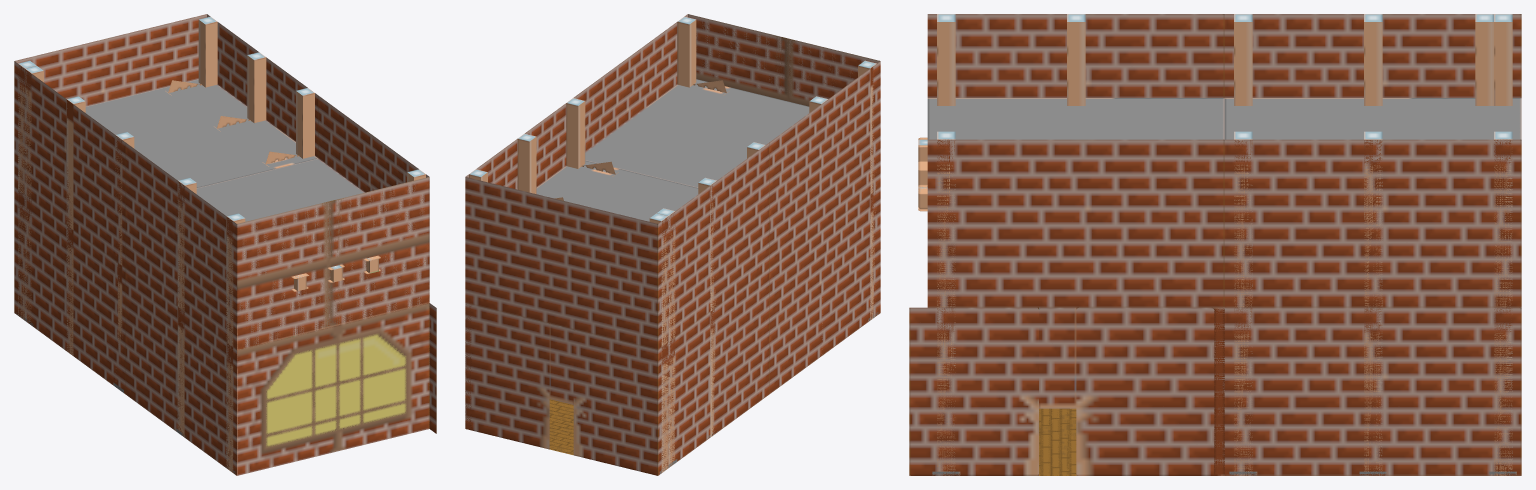
The model's file is Room2.fbx.
3 views of the same model, side by side, from view 1: azimuth 30°, elevation 25°; view 2: azimuth 150°, elevation 25°; view 3: azimuth 270°, elevation 25° (orthographic). The views are drawn at different scales.
Visible parts, largest first — view 1: cube_15, cube_35, cube_34, cube_49, cube_33, cube_32, cube_2, cube_31, cube_86, cube_45, cube_30, cube_29 (+15 smaller); view 2: cube_31, cube_32, cube_33, cube_34, cube_49, cube_45, cube_25, cube_27, cube_35, cube_30, cube_2, cube_29 (+13 smaller); view 3: cube_29, cube_30, cube_1, cube_47, cube_34, cube_48, cube_32, cube_45, cube_2, cube_46, cube_28, cube_58 (+13 smaller).
Part boxes in pixels (x1=…): cube_15: x1=237, y1=303, x2=429, y2=475; cube_35: x1=237, y1=177, x2=429, y2=349; cube_34: x1=125, y1=143, x2=236, y2=349; cube_49: x1=14, y1=187, x2=125, y2=394; cube_33: x1=125, y1=269, x2=236, y2=475; cube_32: x1=14, y1=61, x2=125, y2=267; cube_2: x1=85, y1=79, x2=317, y2=187; cube_31: x1=15, y1=14, x2=206, y2=106; cube_86: x1=237, y1=304, x2=429, y2=475; cube_45: x1=196, y1=158, x2=364, y2=221; cube_30: x1=318, y1=95, x2=429, y2=192; cube_29: x1=207, y1=14, x2=318, y2=157; cube_31: x1=465, y1=177, x2=657, y2=349; cube_32: x1=658, y1=143, x2=769, y2=349; cube_33: x1=769, y1=187, x2=880, y2=394; cube_34: x1=769, y1=61, x2=880, y2=267; cube_49: x1=658, y1=269, x2=769, y2=475; cube_45: x1=585, y1=79, x2=809, y2=187; cube_25: x1=573, y1=329, x2=657, y2=475; cube_27: x1=465, y1=303, x2=549, y2=449; cube_35: x1=688, y1=14, x2=879, y2=106; cube_30: x1=576, y1=14, x2=687, y2=151; cube_2: x1=536, y1=160, x2=698, y2=221; cube_29: x1=465, y1=95, x2=576, y2=189; cube_29: x1=1224, y1=139, x2=1521, y2=307; cube_30: x1=927, y1=139, x2=1224, y2=307; cube_1: x1=1224, y1=307, x2=1521, y2=475; cube_47: x1=1076, y1=307, x2=1224, y2=475; cube_34: x1=927, y1=14, x2=1224, y2=97; cube_48: x1=909, y1=307, x2=1038, y2=475; cube_32: x1=1224, y1=14, x2=1521, y2=97; cube_45: x1=927, y1=98, x2=1224, y2=139; cube_2: x1=1224, y1=98, x2=1521, y2=139; cube_46: x1=1039, y1=307, x2=1076, y2=408; cube_28: x1=1039, y1=408, x2=1076, y2=475; cube_58: x1=1234, y1=14, x2=1252, y2=105.
Size of the model in its own units: 100 by 125 by 206.
Materials: 1 (1 with a texture image).
